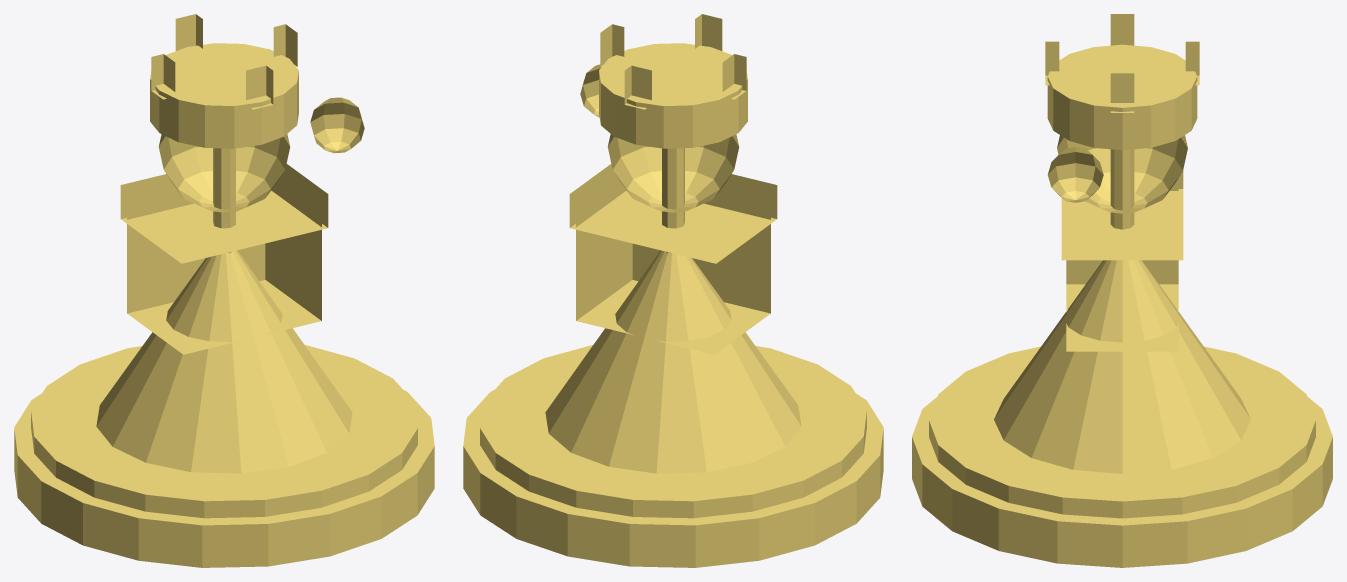
File: character_king_pawn.glb
3 views of the same model, side by side, from view 1: azimuth 30°, elevation 25°; view 2: azimuth 150°, elevation 25°; view 3: azimuth 270°, elevation 25° (orthographic).
Visible parts, largest first — view 1: KingPawn_Node; view 2: KingPawn_Node; view 3: KingPawn_Node.
Boxes of the visible parts, box(x1,y1,x2,y2) form: KingPawn_Node: box(14, 14, 434, 567); KingPawn_Node: box(463, 14, 883, 567); KingPawn_Node: box(912, 14, 1332, 567).
Size of the model in its own units: 0.9 by 1.02 by 0.9.
